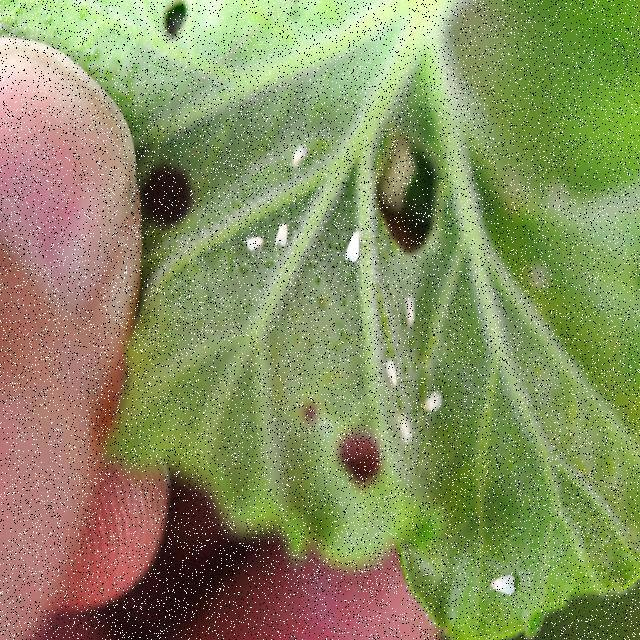Whiteflies: (461, 538, 524, 604), (406, 381, 467, 436), (383, 284, 430, 341), (389, 396, 432, 453), (335, 217, 369, 263), (376, 354, 412, 397), (233, 222, 266, 265), (269, 208, 297, 257)
